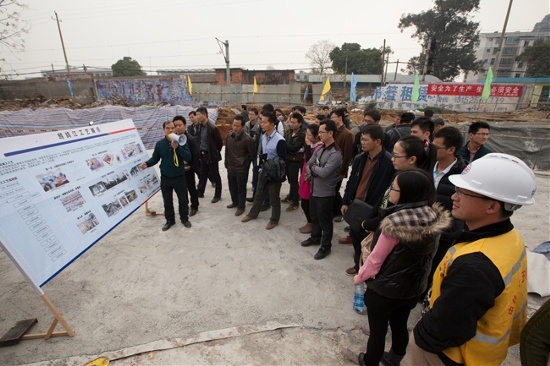none: (384, 169, 435, 207), (390, 136, 424, 166), (432, 128, 462, 157), (357, 123, 384, 153), (469, 119, 489, 146), (410, 115, 432, 138), (318, 119, 335, 141), (362, 109, 382, 126), (229, 113, 245, 134), (260, 111, 275, 132), (288, 112, 303, 131), (305, 123, 319, 143), (172, 115, 187, 133), (398, 111, 415, 126), (194, 105, 209, 122), (328, 108, 343, 124), (161, 119, 175, 136), (430, 116, 444, 132), (246, 106, 258, 121), (292, 106, 305, 115), (187, 110, 195, 122), (321, 105, 328, 114), (239, 103, 246, 111)
white: (450, 151, 527, 226)
